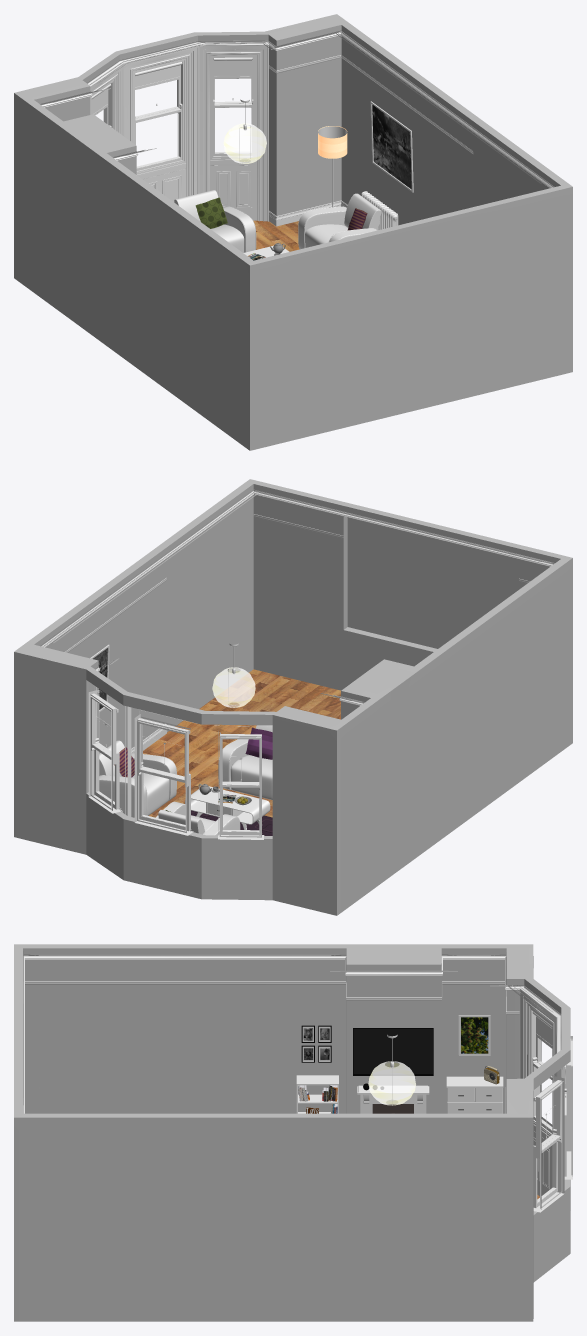
The model's file is living-room.glb.
3 views of the same model, one above another, from view 1: azimuth 30°, elevation 25°; view 2: azimuth 150°, elevation 25°; view 3: azimuth 270°, elevation 25° (orthographic). The views are drawn at different scales.
Visible parts, largest first — view 1: SOSIES_Static, Mesh (53), Mesh (10); view 2: SOSIES_Static, Mesh (53); view 3: SOSIES_Static, Mesh (53).
Part boxes in pixels (x1,y1,x2,y2): SOSIES_Static: (14, 14, 572, 450); Mesh (53): (223, 123, 266, 163); Mesh (10): (318, 126, 347, 158); SOSIES_Static: (14, 479, 572, 915); Mesh (53): (212, 667, 255, 707); SOSIES_Static: (14, 944, 572, 1321); Mesh (53): (368, 1061, 415, 1105).
Bounding box in the file's own units: 5.73 × 3.15 × 7.8.
37 materials, 16 textured.
